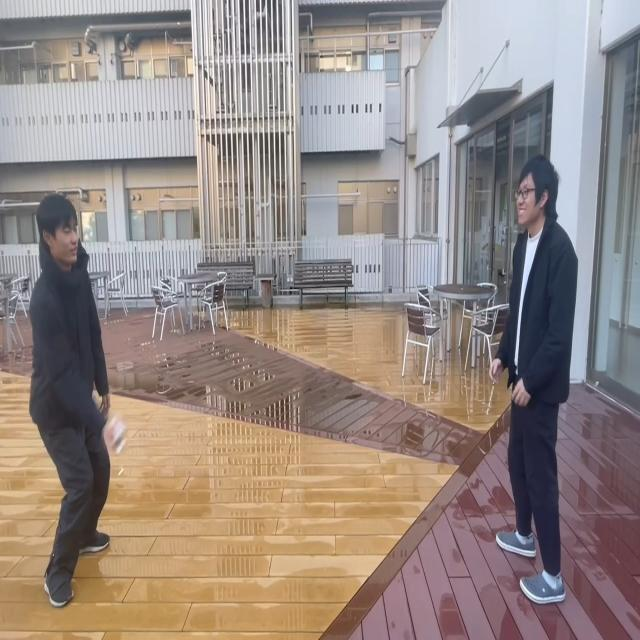bottle: (110, 415, 126, 454)
